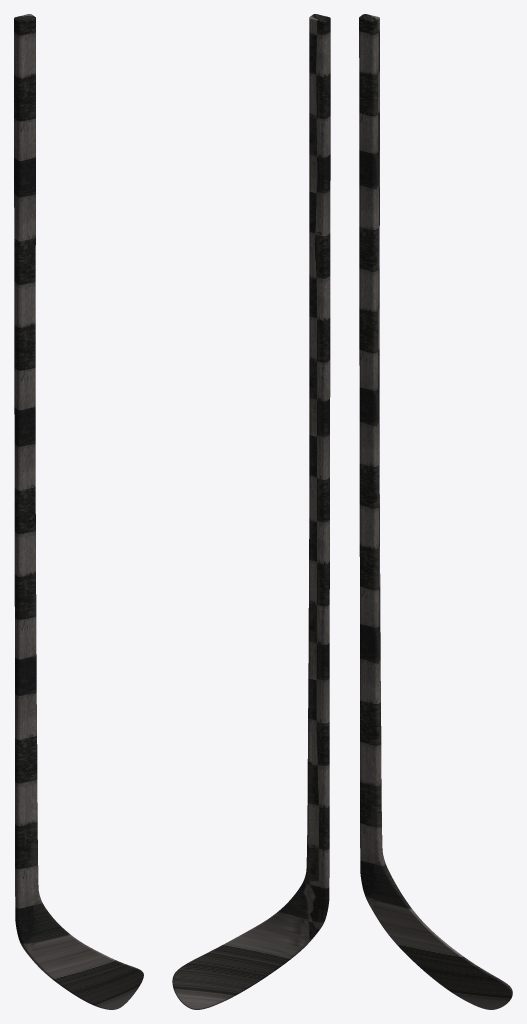
The model's file is P84-SBT.glb.
The picture shows the model from 3 angles, left to right: view 1: azimuth 30°, elevation 25°; view 2: azimuth 150°, elevation 25°; view 3: azimuth 330°, elevation 25°; orthographic projection. The views are drawn at different scales.
Parts seen in each view (by area): view 1: geometry_0; view 2: geometry_0; view 3: geometry_0.
Boxes of the visible parts, <box> form: geometry_0: <box>14,14,143,1009</box>; geometry_0: <box>172,14,330,1009</box>; geometry_0: <box>359,14,512,1009</box>.
Bounding box in the file's own units: 241 × 1650 × 65.01.
1 material, 1 textured.
